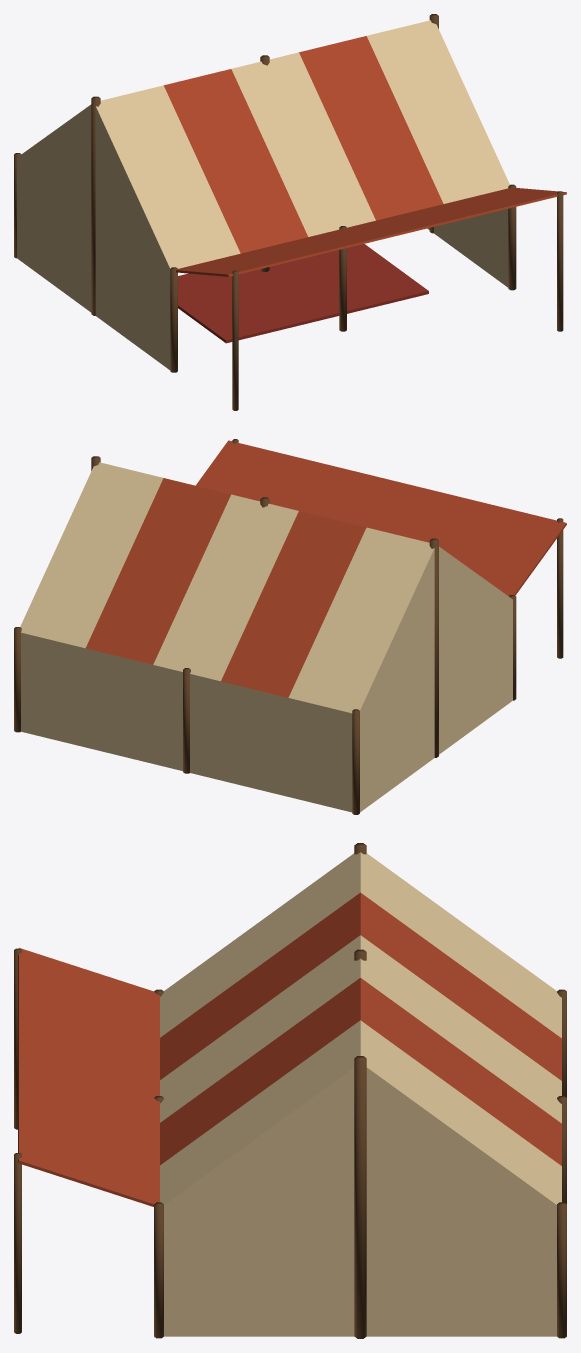
Rendered from zelt_gross.glb.
The picture shows the model from 3 angles, top to bottom: view 1: azimuth 30°, elevation 25°; view 2: azimuth 150°, elevation 25°; view 3: azimuth 270°, elevation 25°; orthographic projection. The views are drawn at different scales.
Parts seen in each view (by area): view 1: bahn; view 2: bahn; view 3: bahn.
Part boxes in pixels (x1,y1,x2,y2): bahn: [14, 14, 566, 410]; bahn: [14, 439, 566, 814]; bahn: [14, 843, 566, 1338].
Bounding box in the file's own units: 5.1 × 3.12 × 5.49.
